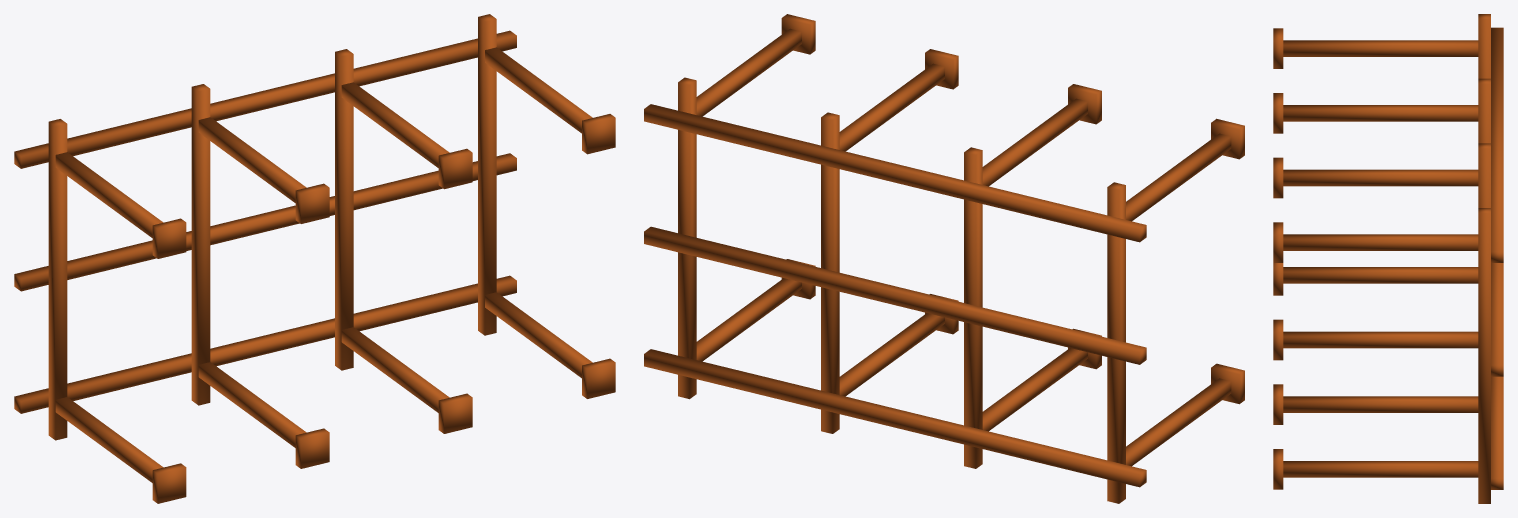
Rendered from outdoor_shadeden002.001.obj.
3 renders of one model, left to right at view 1: azimuth 30°, elevation 25°; view 2: azimuth 150°, elevation 25°; view 3: azimuth 270°, elevation 25°, orthographic. The views are drawn at different scales.
Parts seen in each view (by area): view 1: outdoor_shadeden002.001; view 2: outdoor_shadeden002.001; view 3: outdoor_shadeden002.001.
Part boxes in pixels (x1=…): outdoor_shadeden002.001: x1=14, y1=14, x2=615, y2=503; outdoor_shadeden002.001: x1=644, y1=14, x2=1244, y2=503; outdoor_shadeden002.001: x1=1273, y1=14, x2=1503, y2=503.
Bounding box in the file's own units: 10.47 × 6.33 × 4.55.
